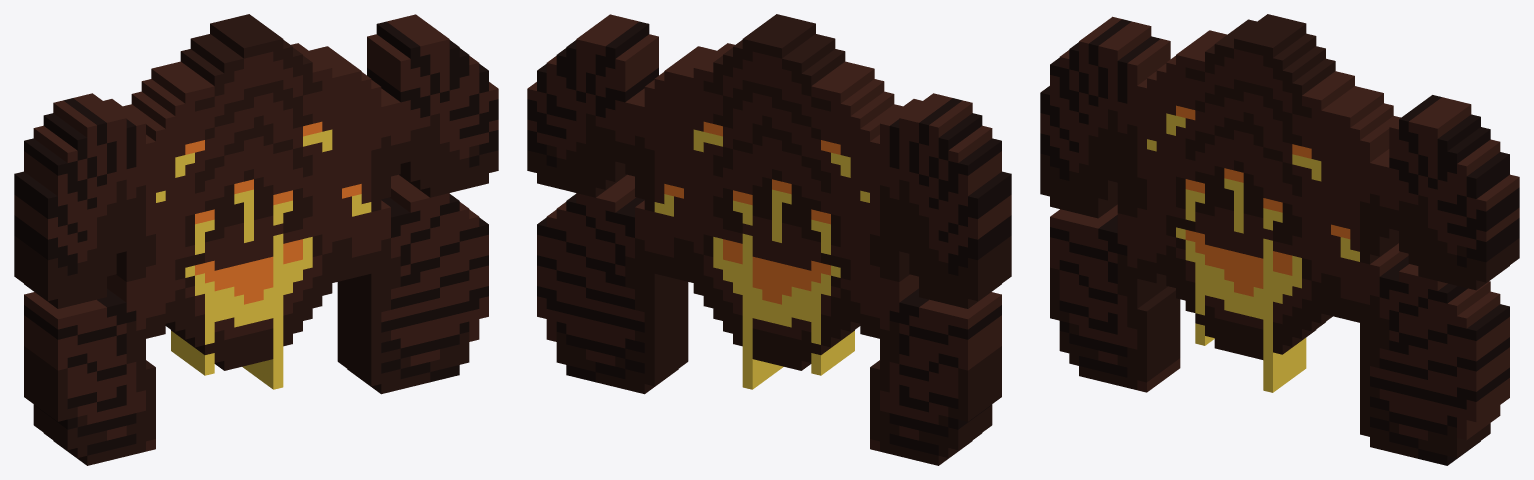
Rendered from lava_mortar.obj.
The picture shows the model from 3 angles, left to right: view 1: azimuth 30°, elevation 25°; view 2: azimuth 150°, elevation 25°; view 3: azimuth 330°, elevation 25°; orthographic projection.
Size of the model in its own units: 92 by 74 by 12.
